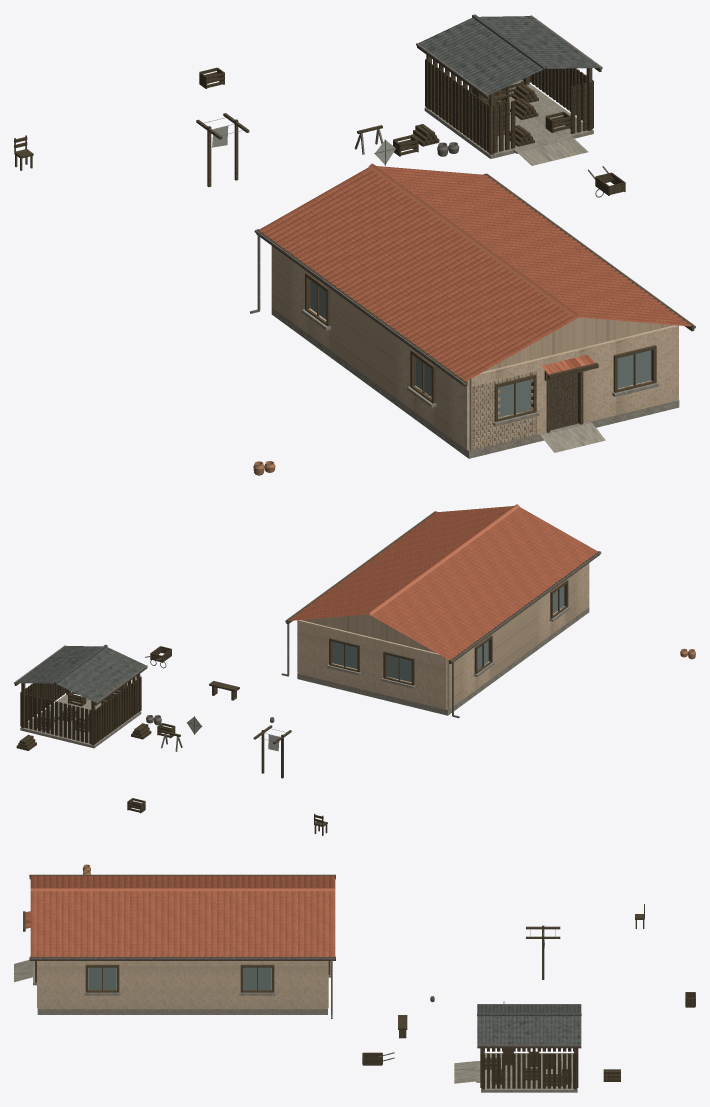
The picture shows the model from 3 angles, top to bottom: view 1: azimuth 30°, elevation 25°; view 2: azimuth 150°, elevation 25°; view 3: azimuth 270°, elevation 25°; orthographic projection. The views are drawn at different scales.
Visible parts, largest first — view 1: H02_TELHAS, H02_LATERAIS, H02_FACHADA, H02_PANDORGAS_COBERTURA, H02_PANDORGAS_RIPAS, H02_OITOES, H02_FUNDACAO, H02_VIDROS_RECUADOS, H02_TIJOLOS_APARENTES, H02_CAIXILHOS, H02_PANDORGAS_BASE, H02_CUMEEIRA (+6 smaller); view 2: H02_TELHAS, H02_FUNDOS, H02_LATERAIS, H02_PANDORGAS_RIPAS, H02_PANDORGAS_COBERTURA, H02_FUNDACAO, H02_OITOES, H02_VIDROS_RECUADOS, H02_CAIXILHOS, H02_PANDORGAS_BASE, H02_BEIRAIS, H02_CUMEEIRA (+1 smaller); view 3: H02_TELHAS, H02_LATERAIS, H02_PANDORGAS_COBERTURA, H02_PANDORGAS_RIPAS, H02_FUNDACAO, H02_PANDORGAS_BASE, H02_BEIRAIS, H02_VIDROS_RECUADOS, H02_CALHA, H02_CUMEEIRA, H02_CAIXILHOS, H02_PANDORGAS_RAMPA (+3 smaller).
Boxes of the visible parts, <box> form: H02_TELHAS: <box>259,166,690,380</box>; H02_LATERAIS: <box>271,246,678,450</box>; H02_FACHADA: <box>469,325,677,450</box>; H02_PANDORGAS_COBERTURA: <box>418,16,600,94</box>; H02_PANDORGAS_RIPAS: <box>425,59,593,153</box>; H02_OITOES: <box>484,317,673,371</box>; H02_FUNDACAO: <box>271,307,679,458</box>; H02_VIDROS_RECUADOS: <box>310,280,651,417</box>; H02_TIJOLOS_APARENTES: <box>472,371,536,449</box>; H02_CAIXILHOS: <box>305,272,656,422</box>; H02_PANDORGAS_BASE: <box>424,84,593,158</box>; H02_CUMEEIRA: <box>368,163,581,318</box>; H02_TELHAS: <box>288,506,597,659</box>; H02_FUNDOS: <box>298,620,447,709</box>; H02_LATERAIS: <box>297,563,589,709</box>; H02_PANDORGAS_RIPAS: <box>20,676,141,743</box>; H02_PANDORGAS_COBERTURA: <box>16,646,145,702</box>; H02_FUNDACAO: <box>297,607,589,715</box>; H02_OITOES: <box>301,614,435,652</box>; H02_VIDROS_RECUADOS: <box>332,586,564,682</box>; H02_CAIXILHOS: <box>329,580,568,685</box>; H02_PANDORGAS_BASE: <box>20,694,141,748</box>; H02_BEIRAIS: <box>286,511,600,663</box>; H02_CUMEEIRA: <box>367,504,519,614</box>; H02_TELHAS: <box>30,875,335,956</box>; H02_LATERAIS: <box>39,961,326,1009</box>; H02_PANDORGAS_COBERTURA: <box>477,1004,581,1044</box>; H02_PANDORGAS_RIPAS: <box>480,1048,578,1088</box>; H02_FUNDACAO: <box>37,968,327,1014</box>; H02_PANDORGAS_BASE: <box>481,1053,577,1092</box>; H02_BEIRAIS: <box>29,875,335,960</box>; H02_VIDROS_RECUADOS: <box>88,967,271,989</box>; H02_CALHA: <box>29,874,335,959</box>; H02_CUMEEIRA: <box>30,888,334,890</box>; H02_CAIXILHOS: <box>35,961,330,992</box>; H02_PANDORGAS_RAMPA: <box>454,1061,475,1083</box>.
Size of the model in its own units: 22.61 by 4.28 by 29.6.
13 materials, 10 textured.
